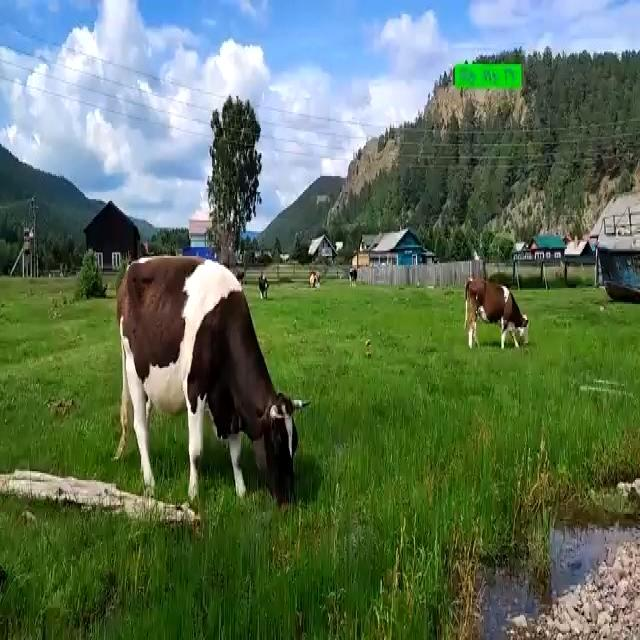COW: (118, 258, 309, 503), (465, 278, 528, 346)
